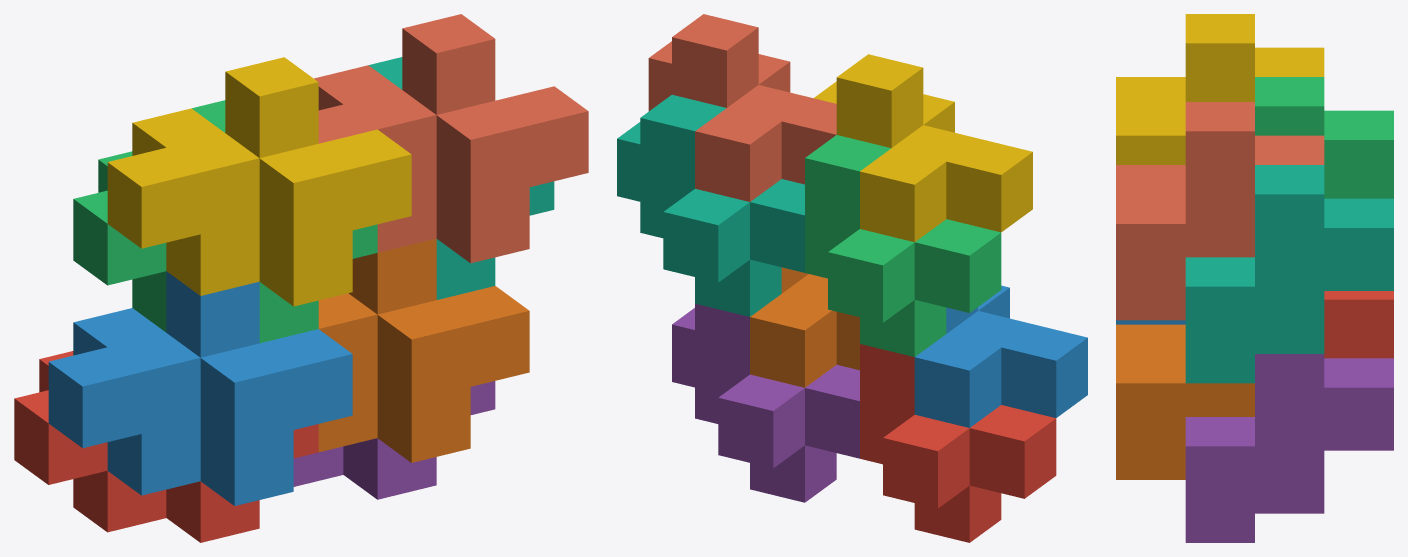
The model's file is tiling.obj.
The picture shows the model from 3 angles, left to right: view 1: azimuth 30°, elevation 25°; view 2: azimuth 150°, elevation 25°; view 3: azimuth 270°, elevation 25°; orthographic projection. The views are drawn at different scales.
Visible parts, largest first — view 1: copy_1_domain_4, copy_1_domain_2, copy_1_domain_8, copy_1_domain_6, copy_1_domain_1, copy_1_domain_3, copy_1_domain_5, copy_1_domain_7; view 2: copy_1_domain_3, copy_1_domain_4, copy_1_domain_7, copy_1_domain_1, copy_1_domain_5, copy_1_domain_8, copy_1_domain_2, copy_1_domain_6; view 3: copy_1_domain_7, copy_1_domain_5, copy_1_domain_8, copy_1_domain_4, copy_1_domain_6, copy_1_domain_3, copy_1_domain_1, copy_1_domain_2.
Boxes of the visible parts, x1,y1,x2,y2 form: copy_1_domain_4: (107,57,411,306); copy_1_domain_2: (48,271,352,505); copy_1_domain_8: (314,14,588,263); copy_1_domain_6: (318,238,529,462); copy_1_domain_1: (14,351,318,542); copy_1_domain_3: (73,100,377,343); copy_1_domain_5: (293,381,495,499); copy_1_domain_7: (368,57,554,299); copy_1_domain_3: (805,135,1001,356); copy_1_domain_4: (814,54,1032,242); copy_1_domain_7: (617,94,804,316); copy_1_domain_1: (860,344,1056,542); copy_1_domain_5: (672,303,859,502); copy_1_domain_8: (648,14,836,201); copy_1_domain_2: (914,285,1087,427); copy_1_domain_6: (750,267,859,387); copy_1_domain_7: (1185,165,1393,383); copy_1_domain_5: (1185,354,1393,542); copy_1_domain_8: (1116,102,1324,320); copy_1_domain_4: (1116,14,1324,164); copy_1_domain_6: (1116,324,1254,479); copy_1_domain_3: (1255,77,1393,198); copy_1_domain_1: (1324,291,1393,358); copy_1_domain_2: (1116,320,1185,324).
Bounding box in the file's own units: 8 × 7 × 4.
